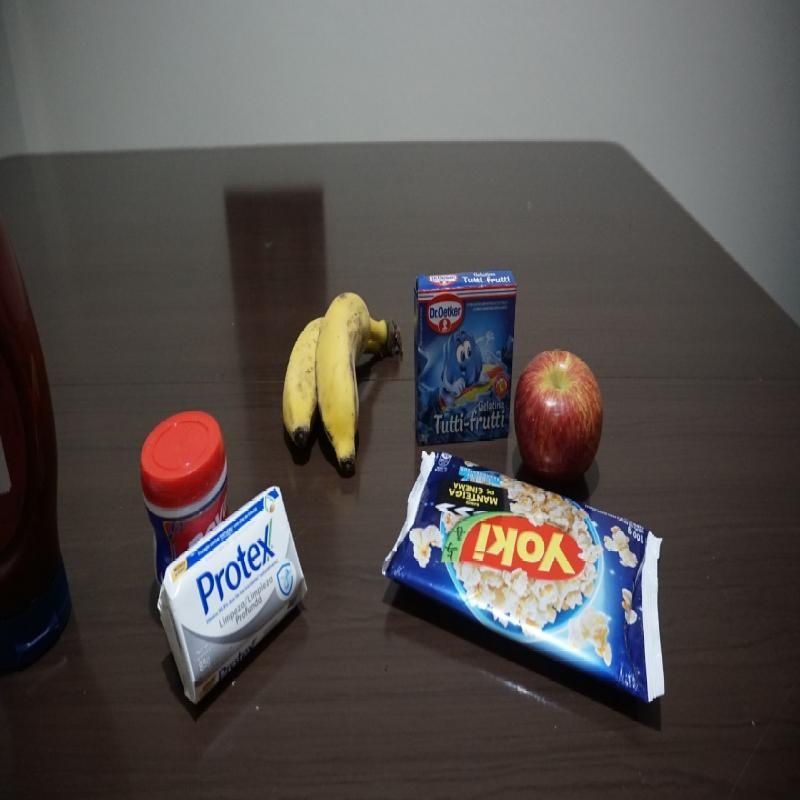Apple: (515, 343, 604, 489)
Banana: (281, 284, 404, 480)
Gelatine: (412, 268, 519, 457)
Ketchup: (0, 207, 74, 679)
Popcorn: (383, 446, 667, 705)
Soap: (156, 480, 308, 718)
Yeast: (132, 405, 236, 593)
